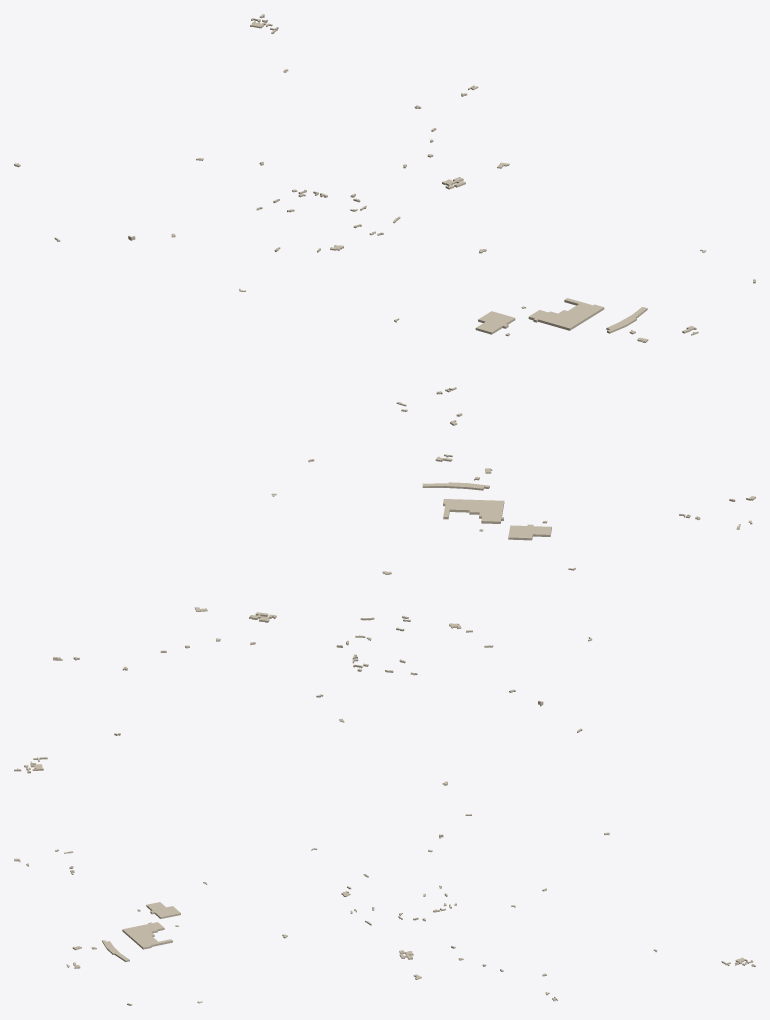
3 renders of one model, top to bottom at view 1: azimuth 30°, elevation 25°; view 2: azimuth 150°, elevation 25°; view 3: azimuth 270°, elevation 25°, orthographic. The views are drawn at different scales.
Bounding box in the file's own units: 2947 × 35.2 × 4908.
